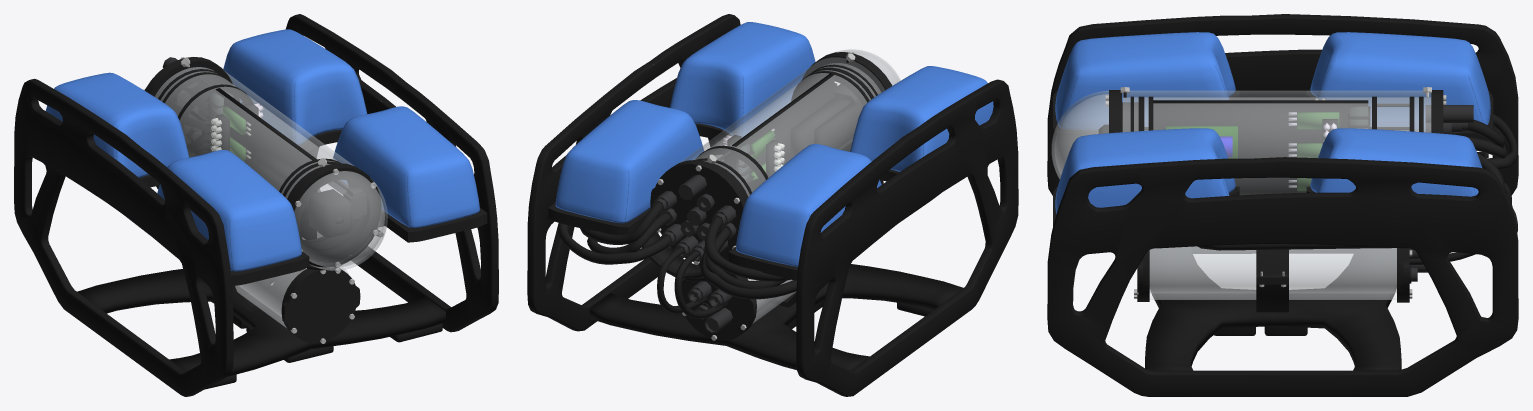
The model's file is bluerov2_chassis_visual.glb.
The picture shows the model from 3 angles, left to right: view 1: azimuth 30°, elevation 25°; view 2: azimuth 150°, elevation 25°; view 3: azimuth 270°, elevation 25°; orthographic projection. The views are drawn at different scales.
Visible parts, largest first — view 1: bluerov2_chassis; view 2: bluerov2_chassis; view 3: bluerov2_chassis.
Part boxes in pixels (x1,y1,x2,y2): bluerov2_chassis: (14,14,498,396); bluerov2_chassis: (527,14,1018,396); bluerov2_chassis: (1047,14,1518,396).
Size of the model in its own units: 0.3379 by 0.2546 by 0.4571.
Materials: 2 (1 with a texture image).
